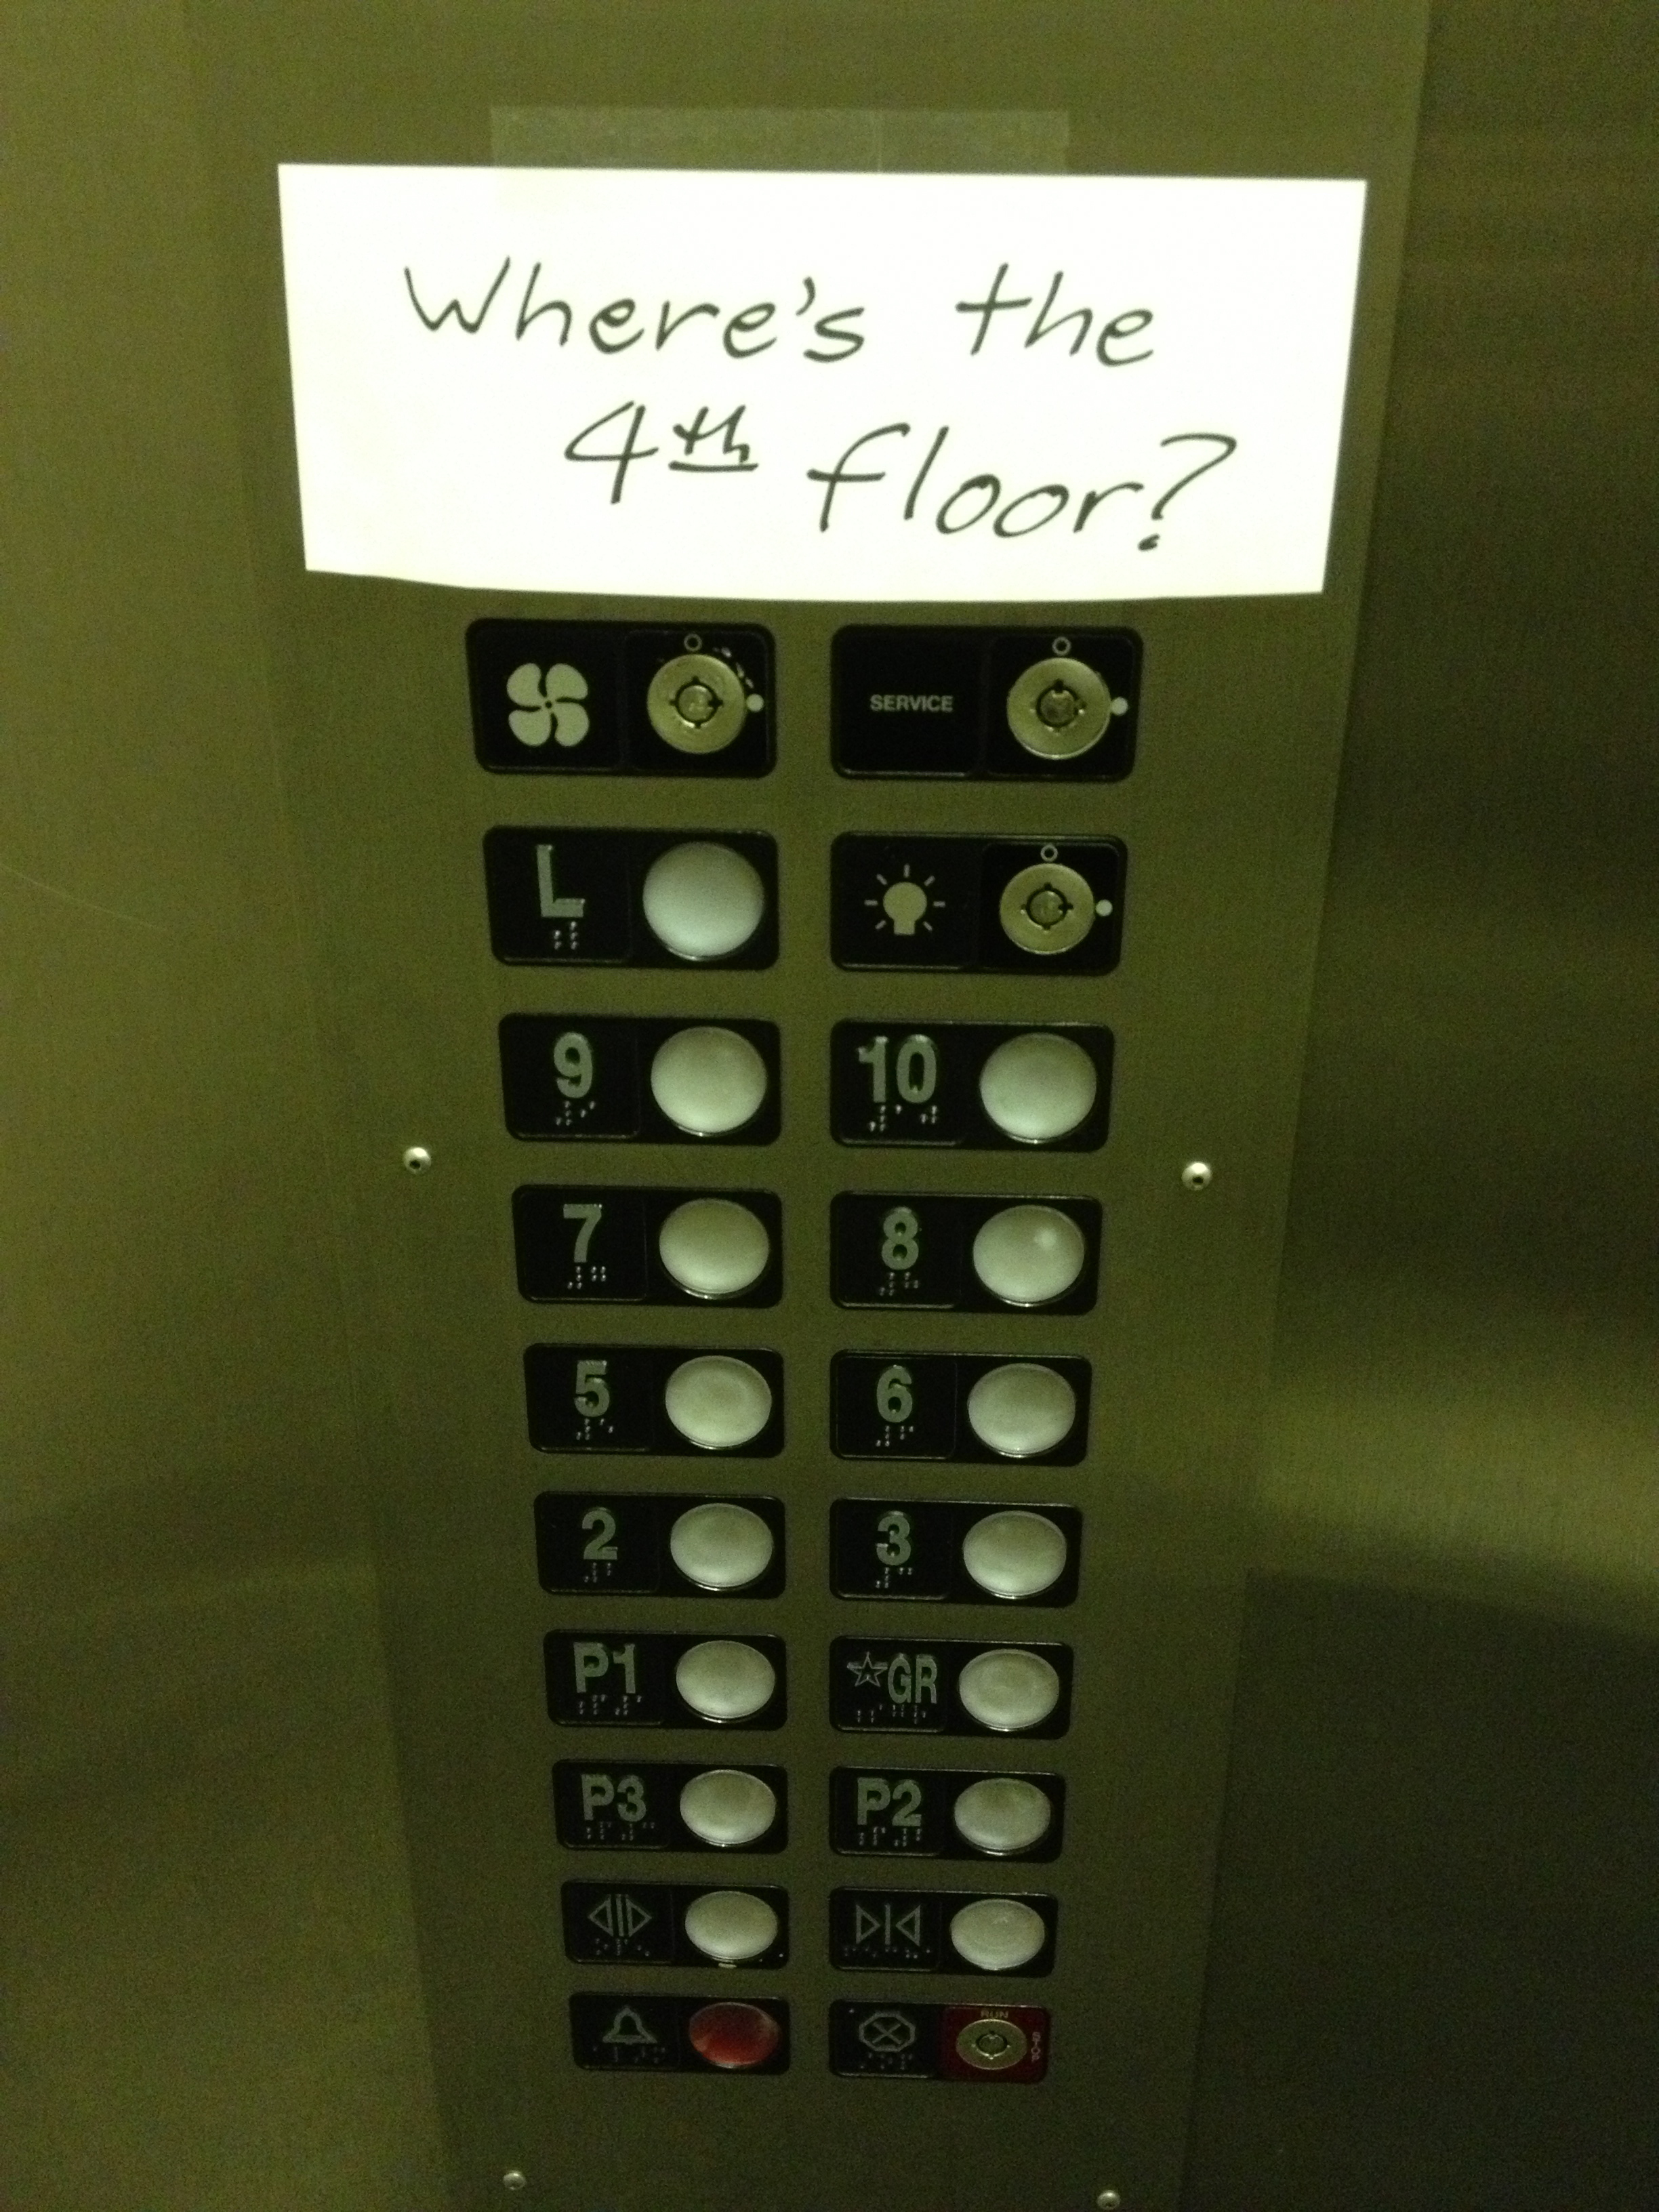button: (826, 620, 1152, 791), (464, 610, 782, 784), (823, 826, 1136, 984), (477, 819, 784, 975), (491, 1005, 788, 1153), (824, 1014, 1119, 1160), (824, 1184, 1108, 1322), (507, 1179, 789, 1315), (518, 1336, 789, 1463), (826, 1343, 1098, 1470), (826, 1494, 1087, 1611), (532, 1487, 793, 1602), (540, 1625, 793, 1740), (824, 1632, 1079, 1743), (824, 1761, 1068, 1869), (549, 1756, 793, 1860), (556, 1876, 796, 1977), (823, 1881, 1063, 1982), (566, 1986, 796, 2083)
